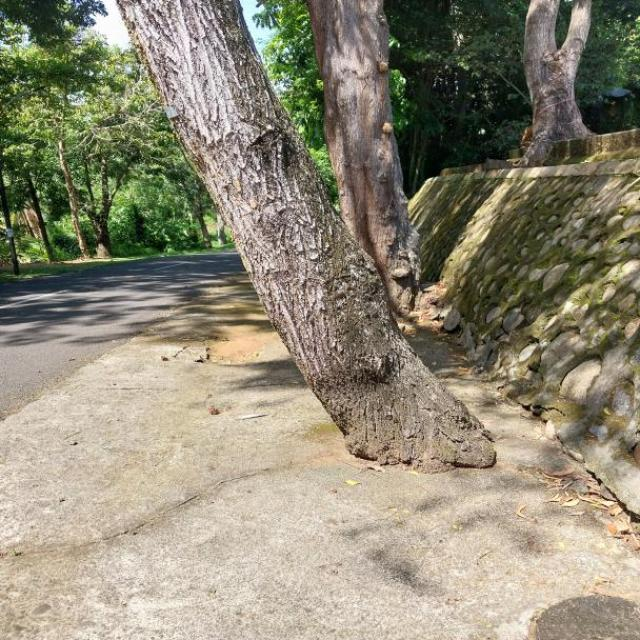tree ahead at: (118, 0, 503, 478)
